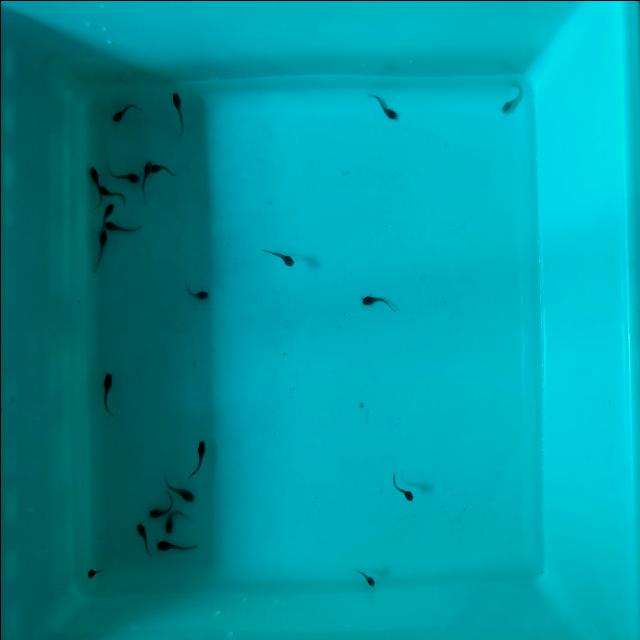lele: (184, 436, 210, 486), (365, 91, 399, 124), (159, 478, 198, 506), (131, 521, 156, 563), (259, 246, 298, 270), (387, 474, 418, 504), (88, 227, 107, 275), (498, 82, 525, 115), (101, 372, 117, 426), (144, 495, 174, 523), (357, 294, 397, 313), (159, 506, 185, 535), (105, 163, 138, 185), (350, 564, 379, 589), (171, 90, 186, 138), (110, 101, 141, 124), (155, 537, 196, 554), (87, 167, 103, 209), (138, 159, 152, 203), (183, 281, 210, 302), (97, 183, 125, 203), (103, 221, 141, 234), (99, 198, 116, 225), (149, 163, 178, 175), (85, 564, 103, 582)
